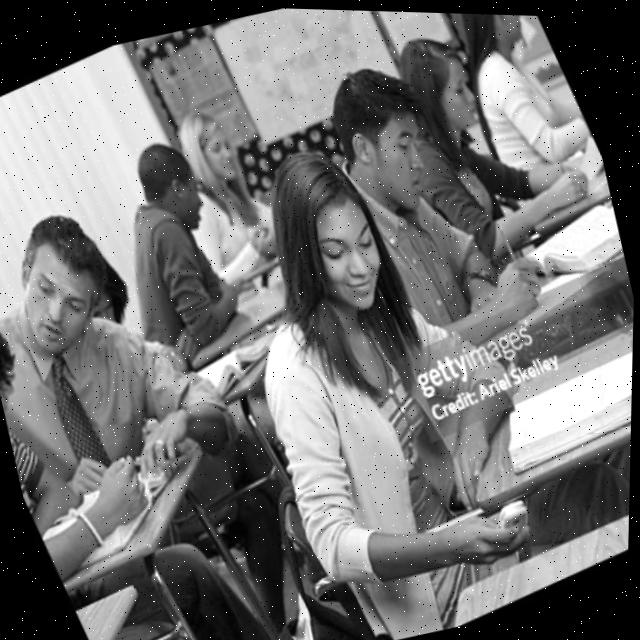phone: (489, 490, 539, 536)
